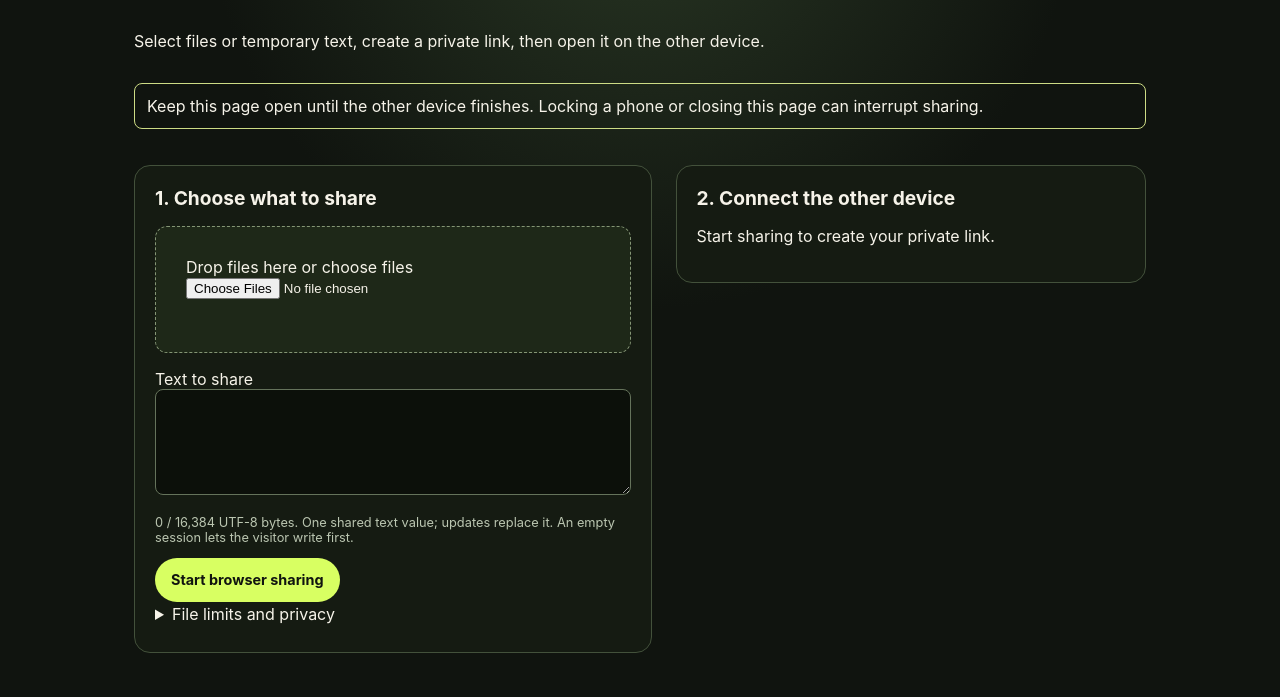
Test: rejects invalid public configuration before creating an invitation
(page scrolled)
Click the button "Start browser sharing" at (247, 580), box [155,558,340,602]
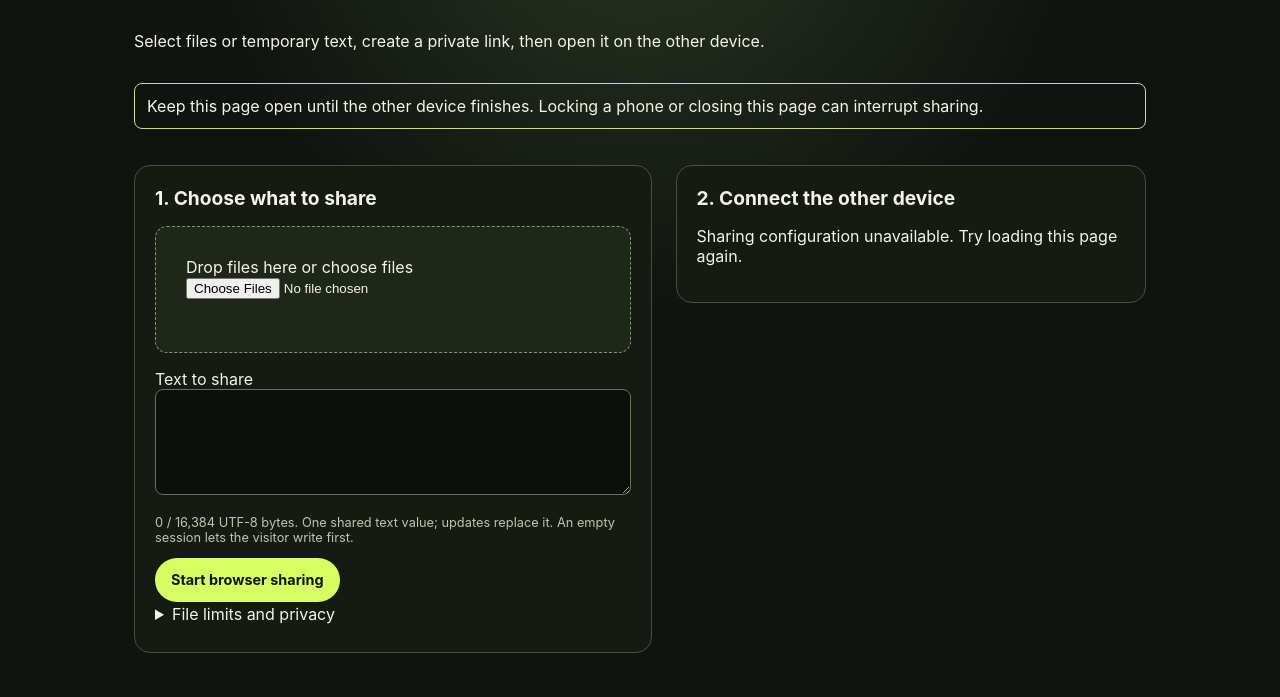
Check: the message named "Session status" shows "configuration unavailable", box [696,226,1117,266]
Click the button "Start browser sharing" at (247, 580), box [155,558,340,602]
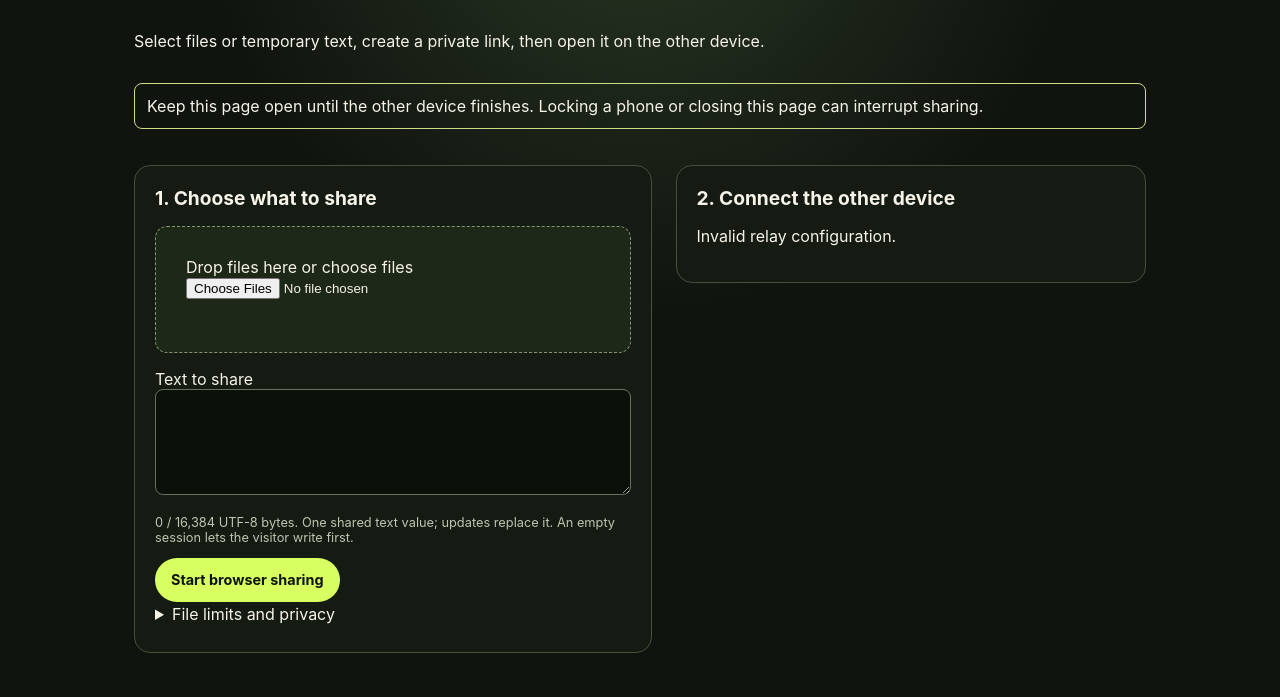
Check: the message named "Session status" shows "Invalid relay", box [696,226,896,246]
